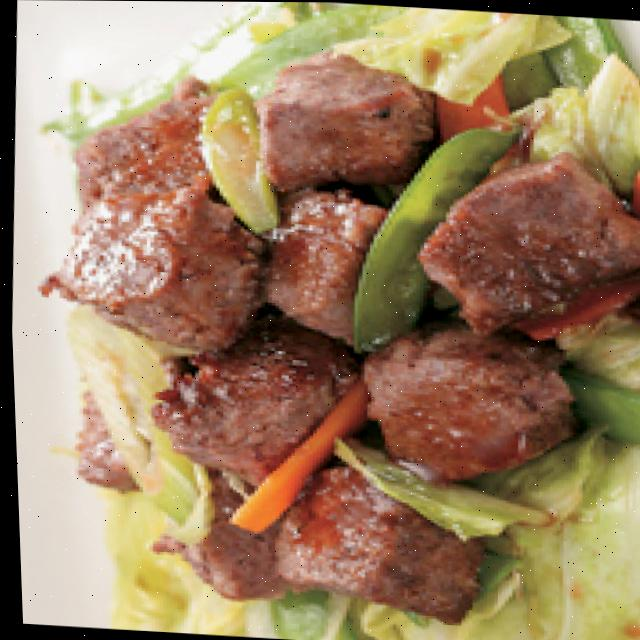牛肉菜式: (42, 61, 640, 609)
